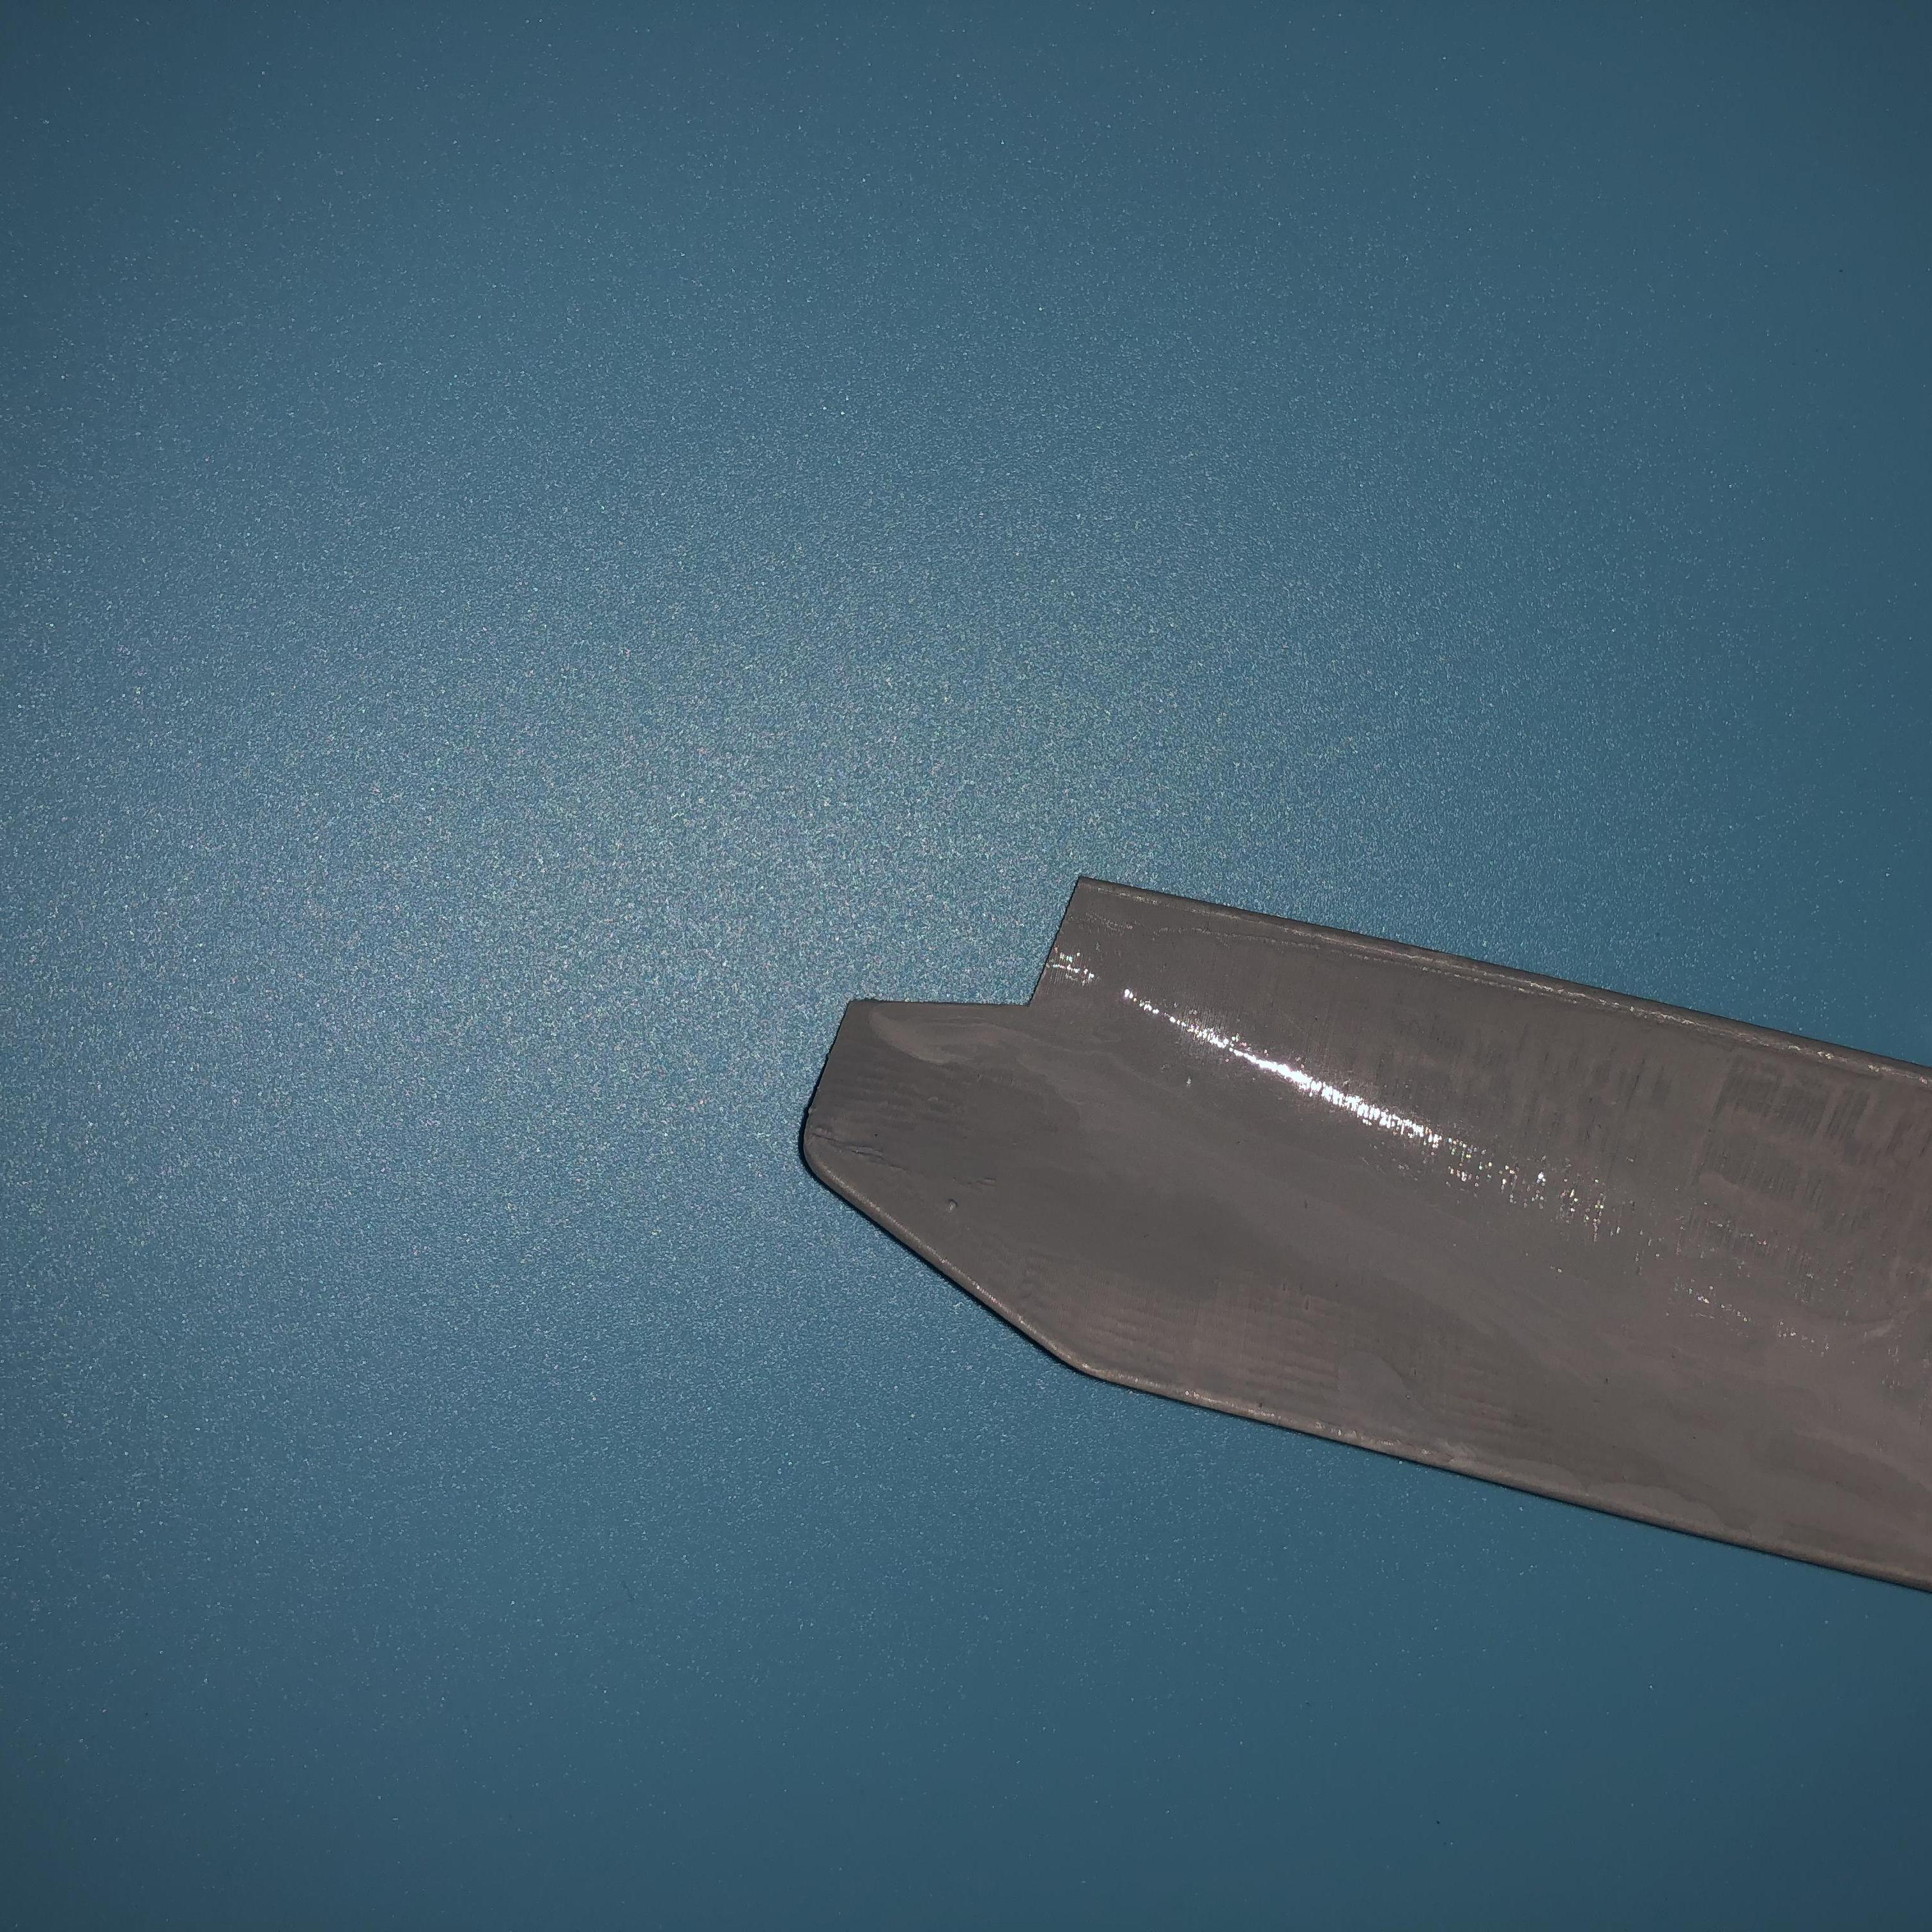fracture: (862, 849, 1118, 1063)
